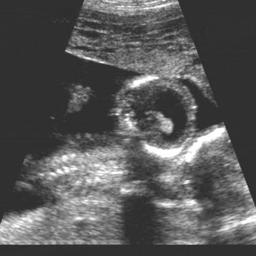abnormal: (118, 75, 199, 161)
